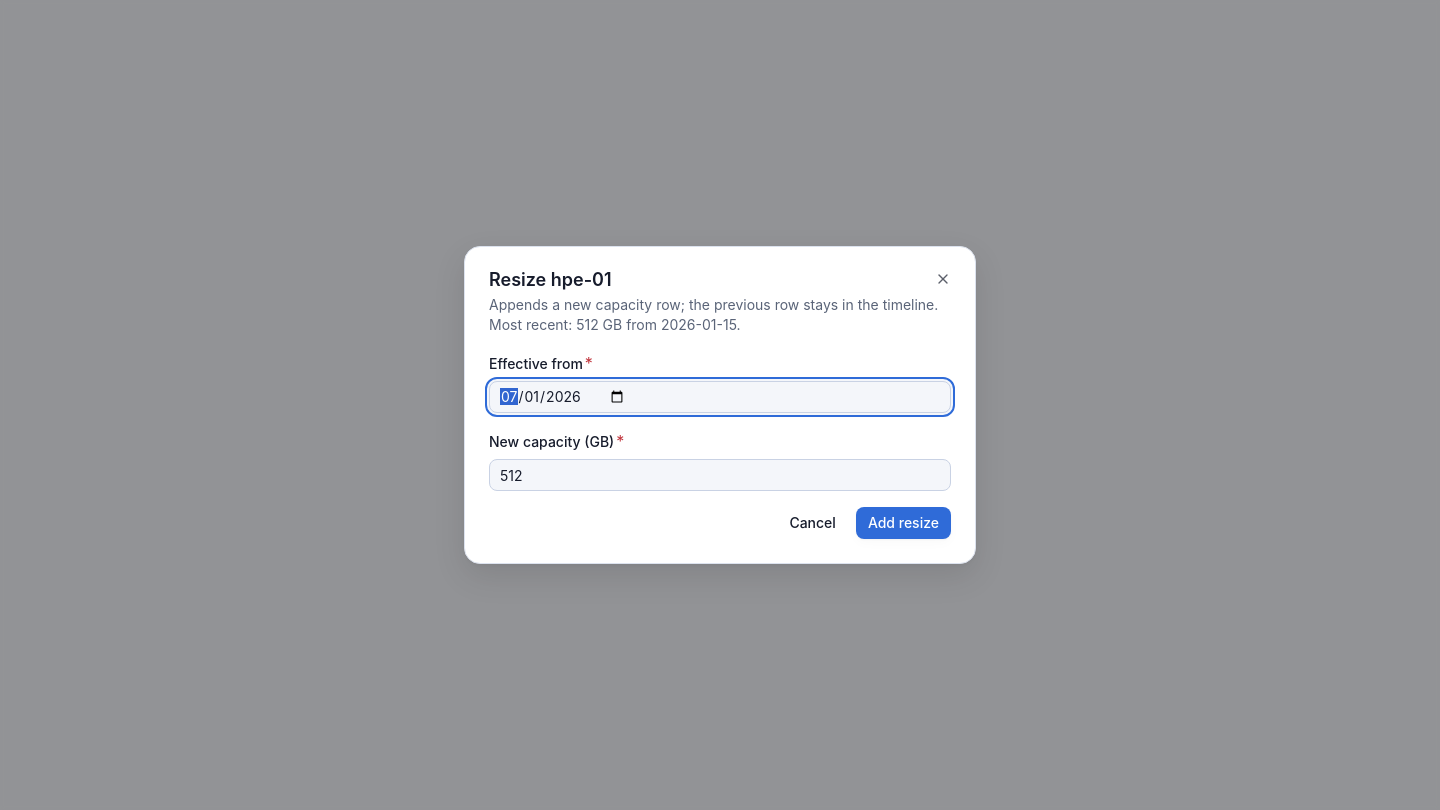
it: <ResizeHostDialog> submit validation › reports a blank capacity through the app’s own error instead of appending 0
The width and height of the screenshot is (1440, 810).
Clear the number field labelled "New capacity (GB)": [720, 475] box top-left (489, 459), bottom-right (951, 491)
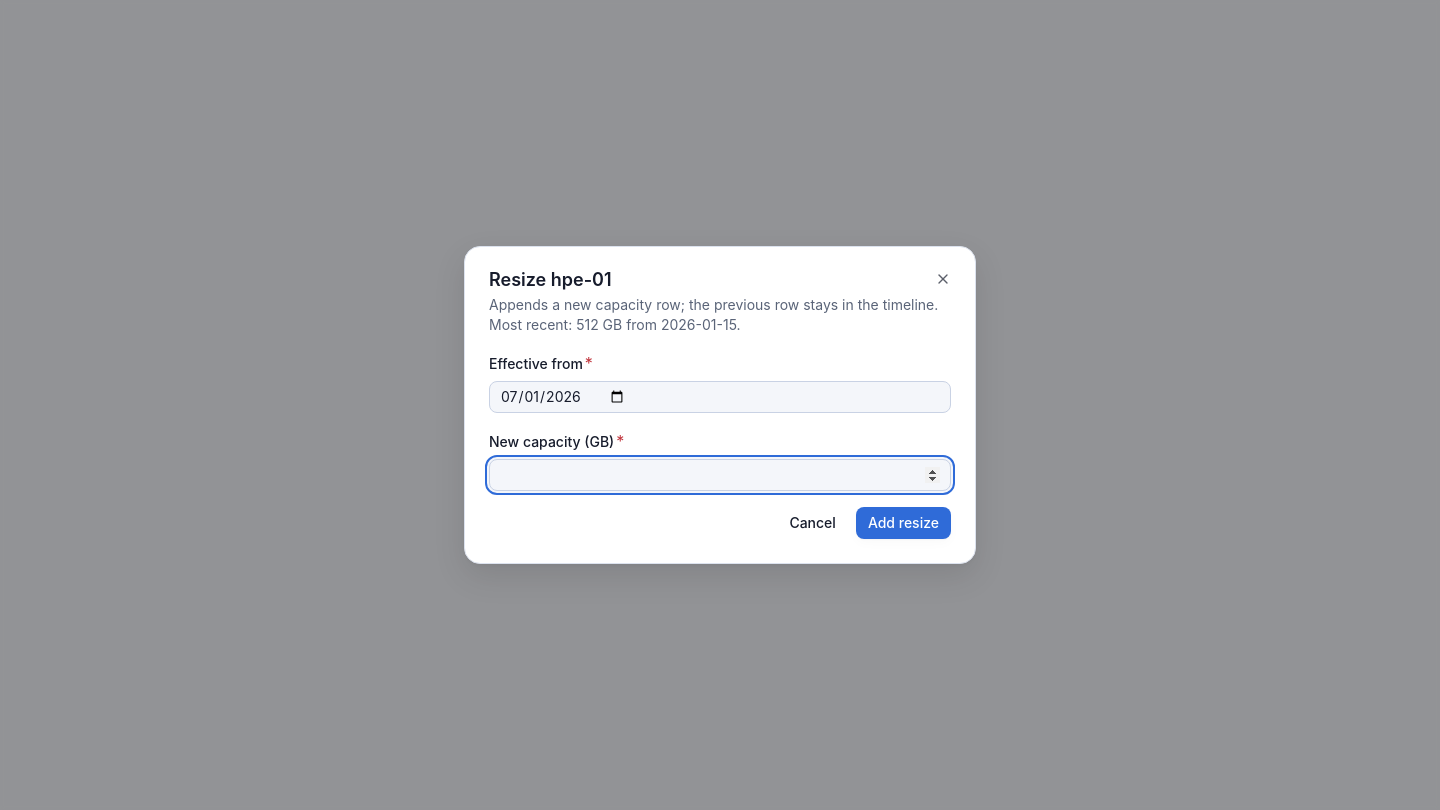
Click the button "Add resize": [903, 523] box top-left (856, 507), bottom-right (951, 539)
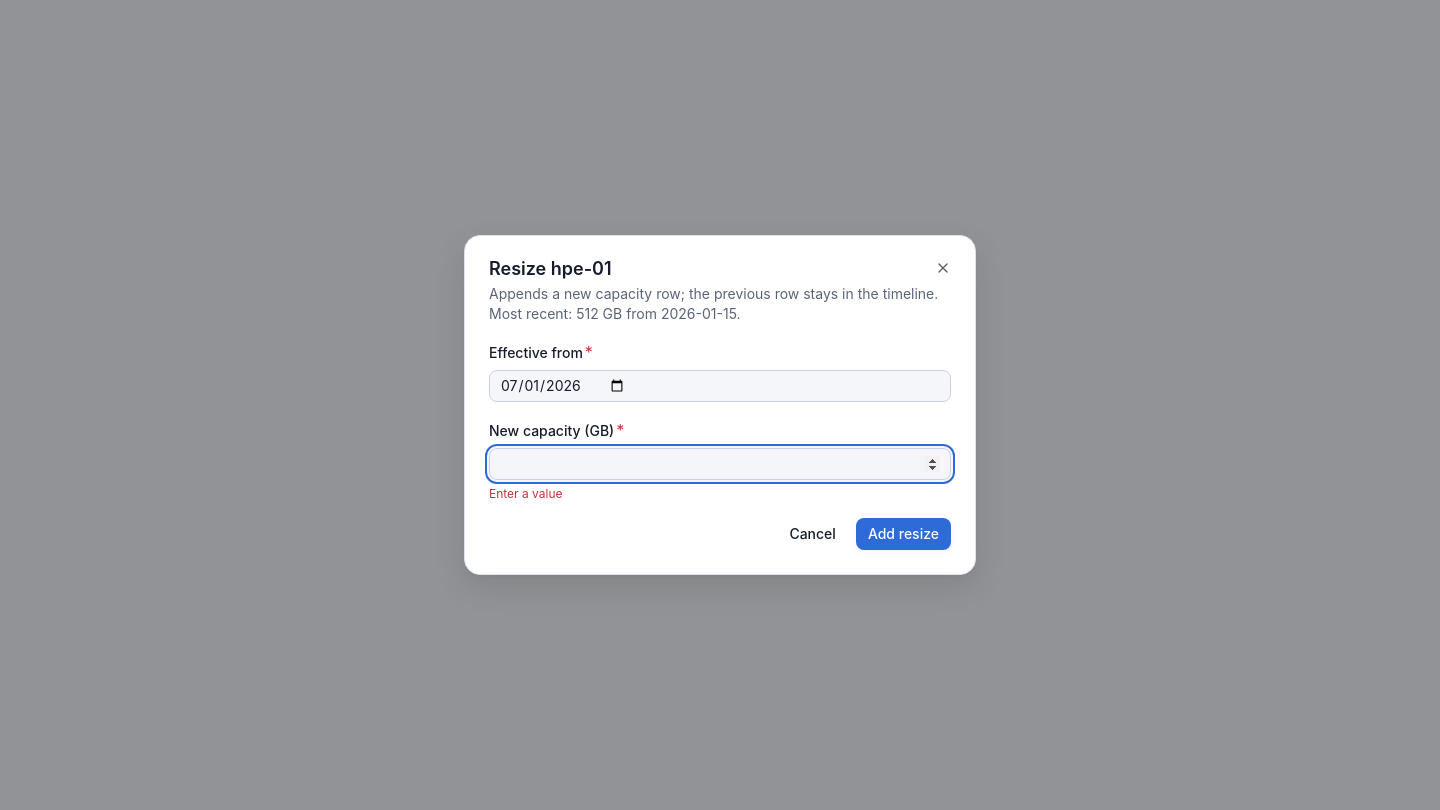
Check: the text "Enter a value" is shown, box top-left (489, 486), bottom-right (562, 501)
